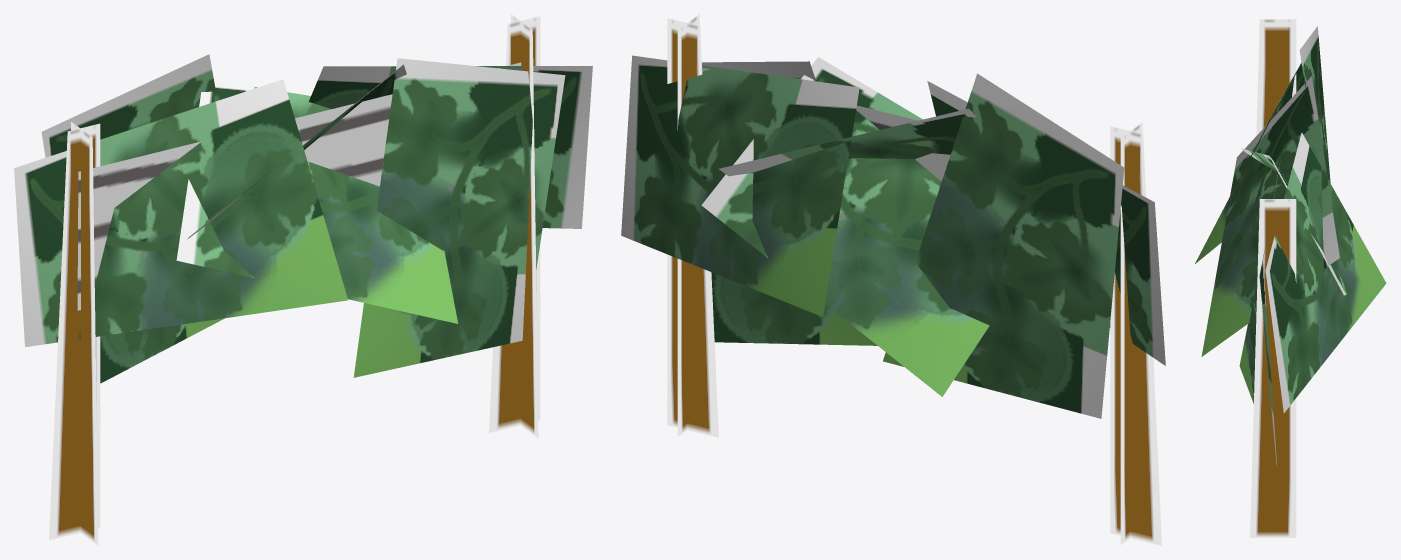
Rendered from Grape_vine.fbx.
The picture shows the model from 3 angles, left to right: view 1: azimuth 30°, elevation 25°; view 2: azimuth 150°, elevation 25°; view 3: azimuth 270°, elevation 25°; orthographic projection. The views are drawn at different scales.
Parts seen in each view (by area): view 1: polySurface368; view 2: polySurface368; view 3: polySurface368.
Part boxes in pixels (bbox=[...]): polySurface368: bbox=[14, 14, 592, 545]; polySurface368: bbox=[621, 14, 1165, 545]; polySurface368: bbox=[1195, 19, 1386, 537].
Bounding box in the file's own units: 1.25 × 0.9466 × 0.4514.
